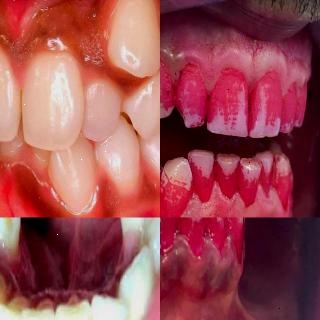Gum Swelling: (160, 235, 242, 283)
maligned: (102, 0, 160, 84), (47, 129, 94, 217), (72, 70, 127, 140), (160, 153, 200, 217), (80, 291, 135, 320), (0, 218, 36, 255), (269, 151, 289, 215), (238, 154, 262, 205)
